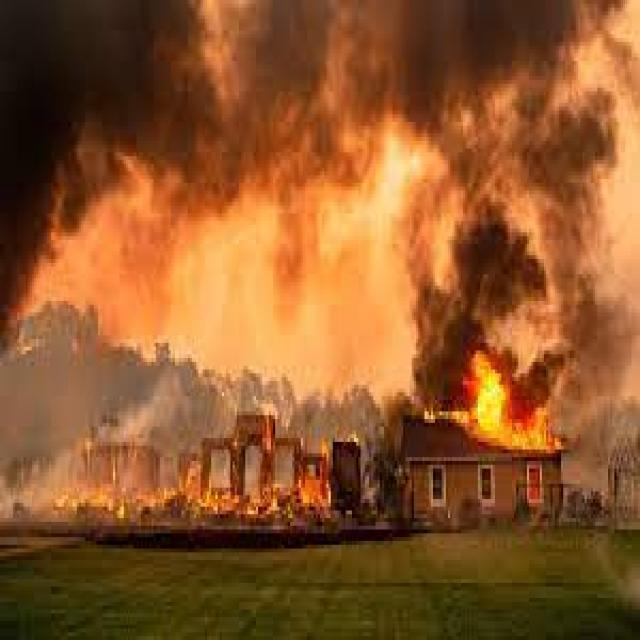Fire: (468, 357, 503, 445)
Smoke: (0, 1, 380, 250), (388, 3, 608, 384)
